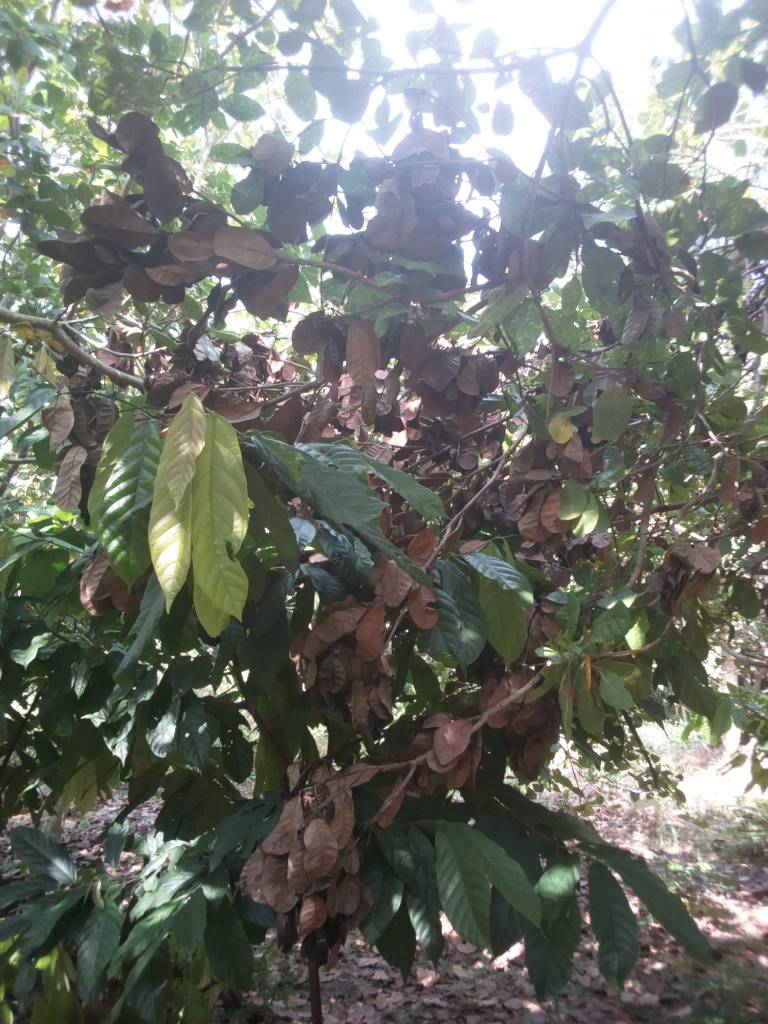Dessèchement des bourgeons: (240, 757, 375, 927), (300, 596, 385, 691), (422, 721, 486, 785)
